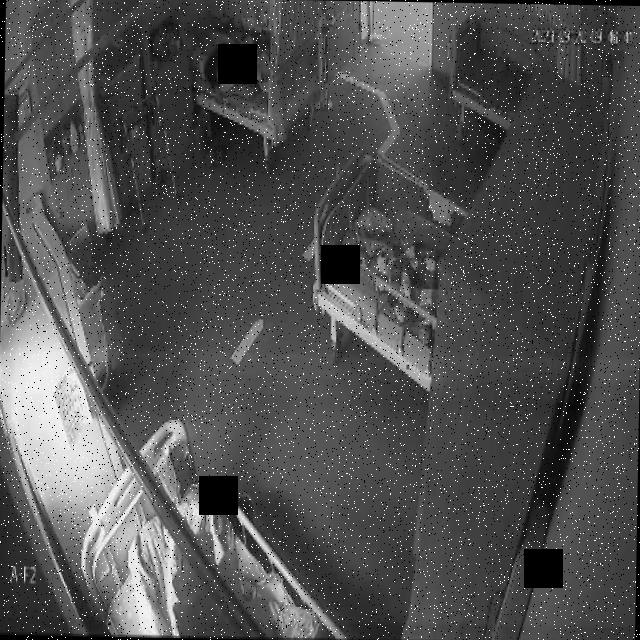bed: (80, 418, 316, 640), (310, 145, 447, 390), (190, 16, 319, 144), (438, 13, 530, 120)
walker: (116, 87, 184, 235)
